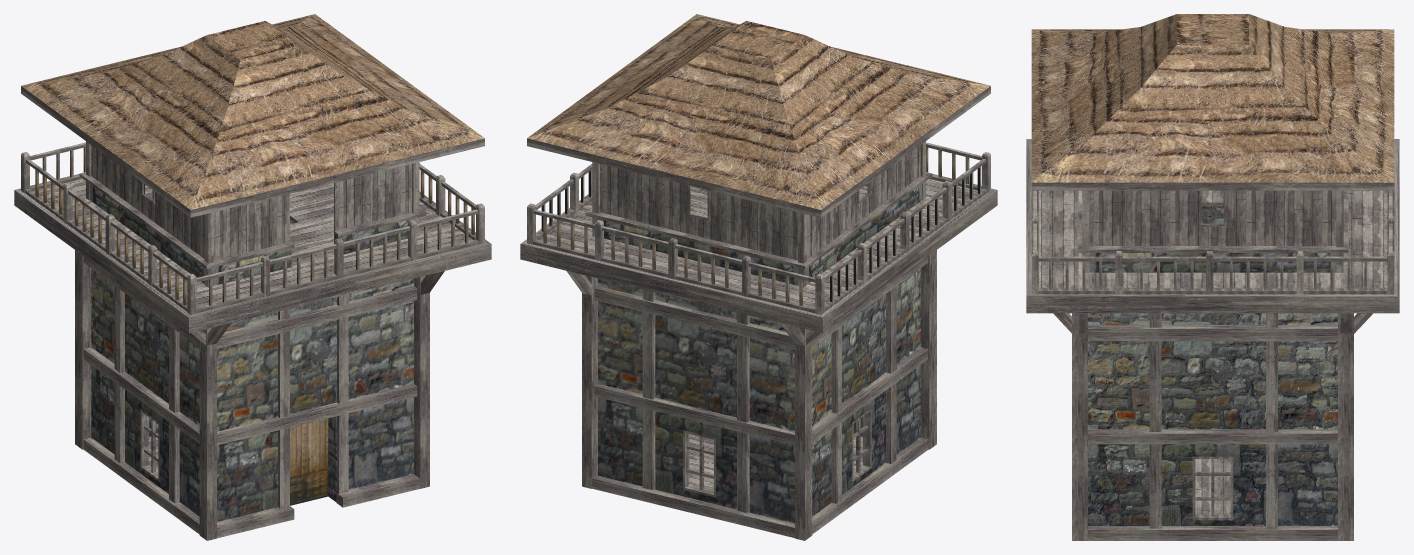
The model's file is Lookout-Tower.FBX.
3 views of the same model, side by side, from view 1: azimuth 30°, elevation 25°; view 2: azimuth 150°, elevation 25°; view 3: azimuth 270°, elevation 25° (orthographic). The views are drawn at different scales.
Parts seen in each view (by area): view 1: Box004, stone, a; view 2: Box004, stone; view 3: Box004, stone.
Boxes of the visible parts, x1=… form: Box004: x1=14, y1=14, x2=491, y2=540; stone: x1=91, y1=219, x2=413, y2=521; a: x1=290, y1=416, x2=336, y2=505; Box004: x1=520, y1=14, x2=997, y2=540; stone: x1=598, y1=269, x2=920, y2=523; Box004: x1=1026, y1=14, x2=1399, y2=540; stone: x1=1088, y1=206, x2=1337, y2=525.
Size of the model in its own units: 7763 by 7763 by 10420.
